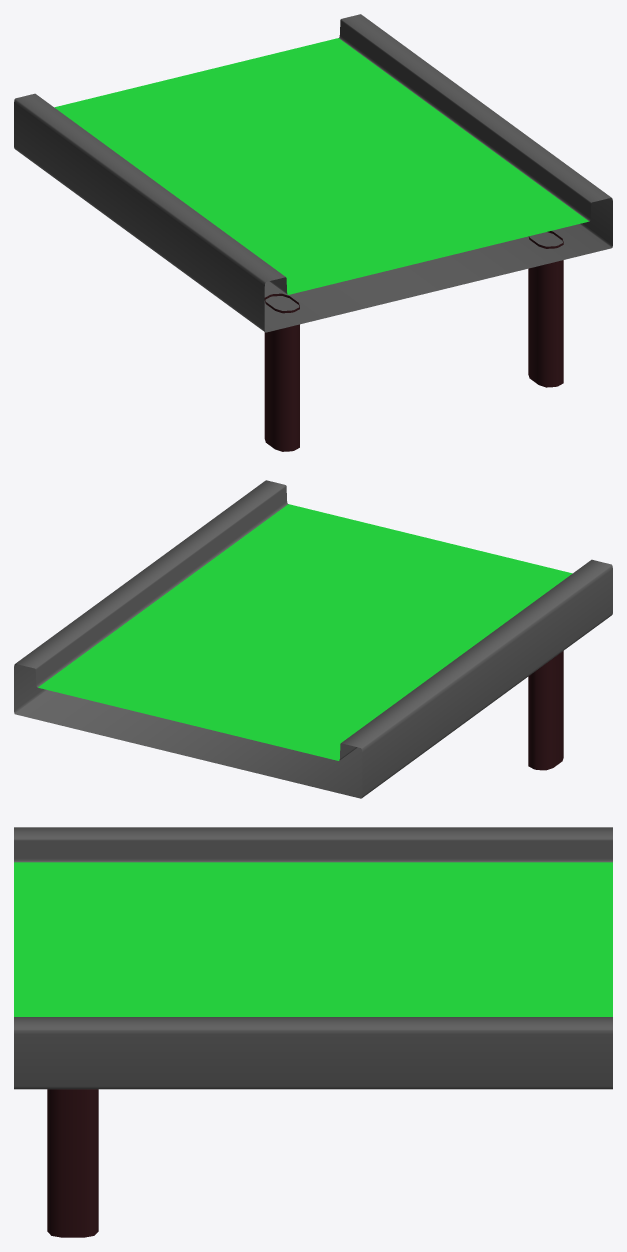
File: ConveyorBelt.fbx
3 views of the same model, one above another, from view 1: azimuth 30°, elevation 25°; view 2: azimuth 150°, elevation 25°; view 3: azimuth 270°, elevation 25° (orthographic). The views are drawn at different scales.
Parts seen in each view (by area): view 1: Cylinder; view 2: Cylinder; view 3: Cylinder.
Boxes of the visible parts, bbox=[...] form: Cylinder: bbox=[14, 14, 612, 451]; Cylinder: bbox=[14, 480, 612, 798]; Cylinder: bbox=[14, 827, 612, 1237].
Bounding box in the file's own units: 140 × 72.64 × 175.
